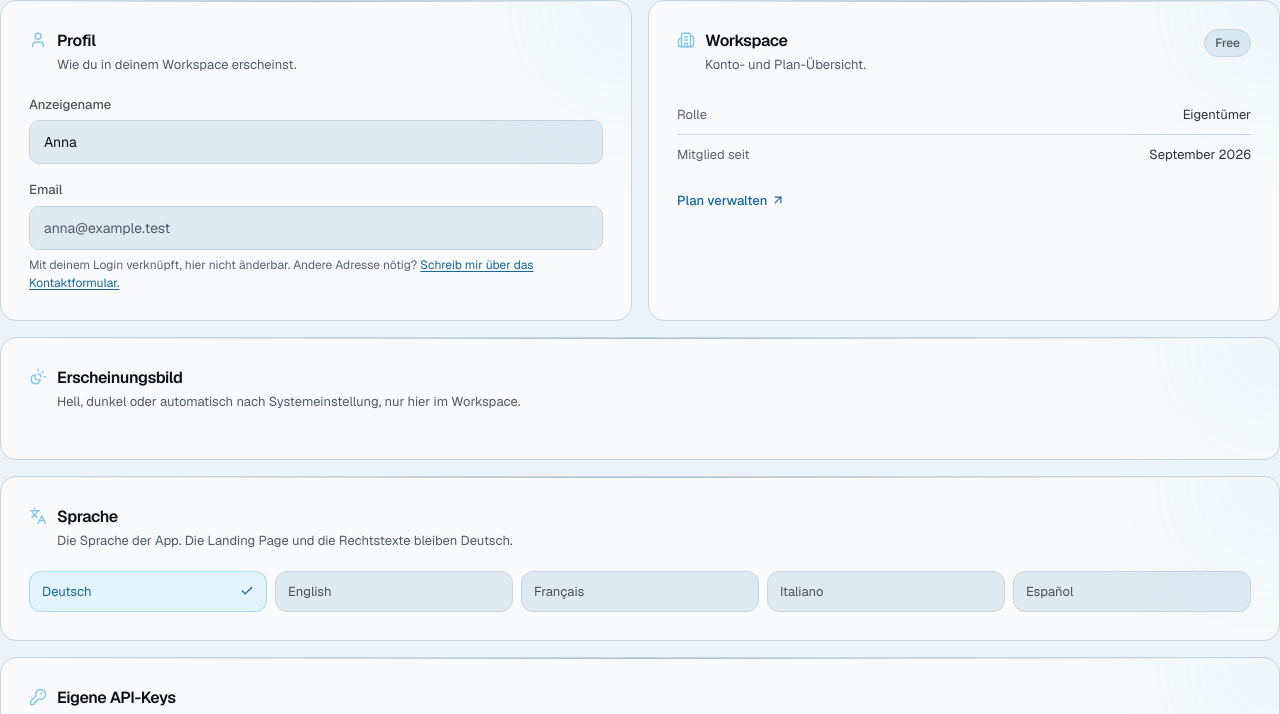
Speicherleiste › 'Verwerfen' stellt den gespeicherten Namen wieder her und blendet die Leiste aus
The width and height of the screenshot is (1280, 714).
Type " Maria" into the field named "Anzeigename".
click(316, 142); type(" Maria")  # box [29,120,603,164]
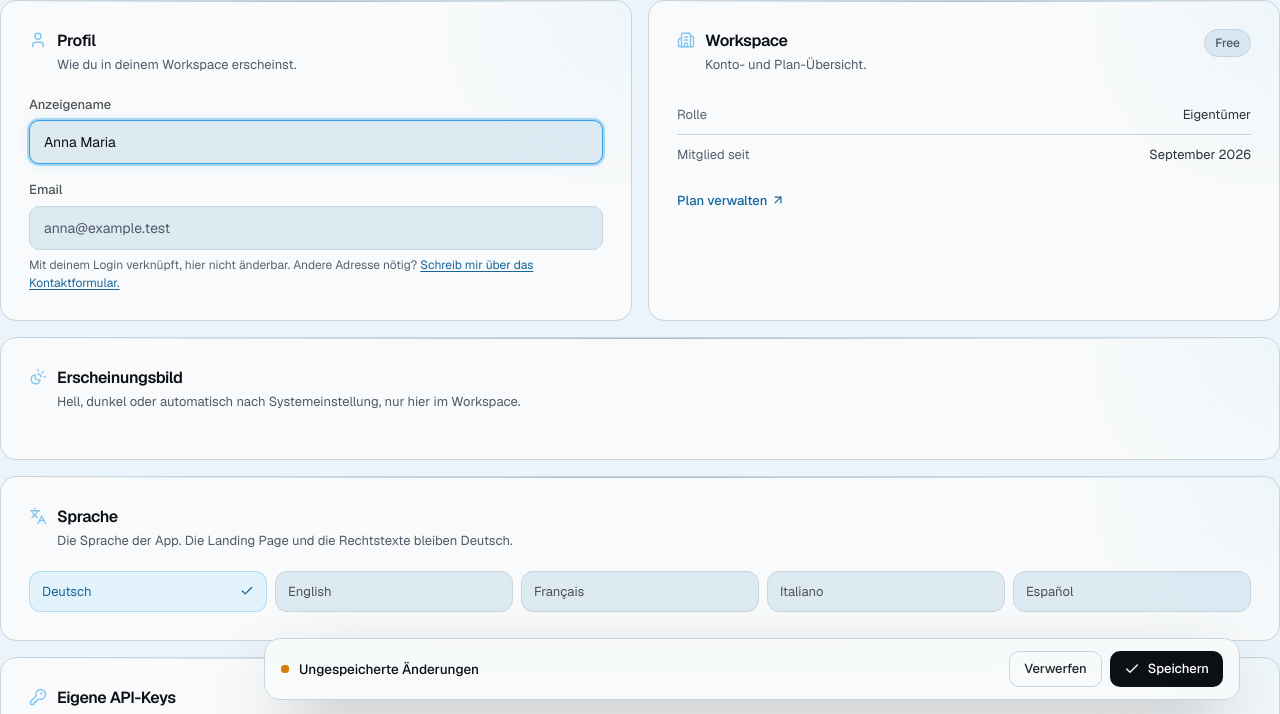
Result: the field named "Anzeigename" holds "Anna Maria" at [29,120,603,164]
Click the button "Verwerfen".
click(1055, 669)  # box [1009,651,1102,687]
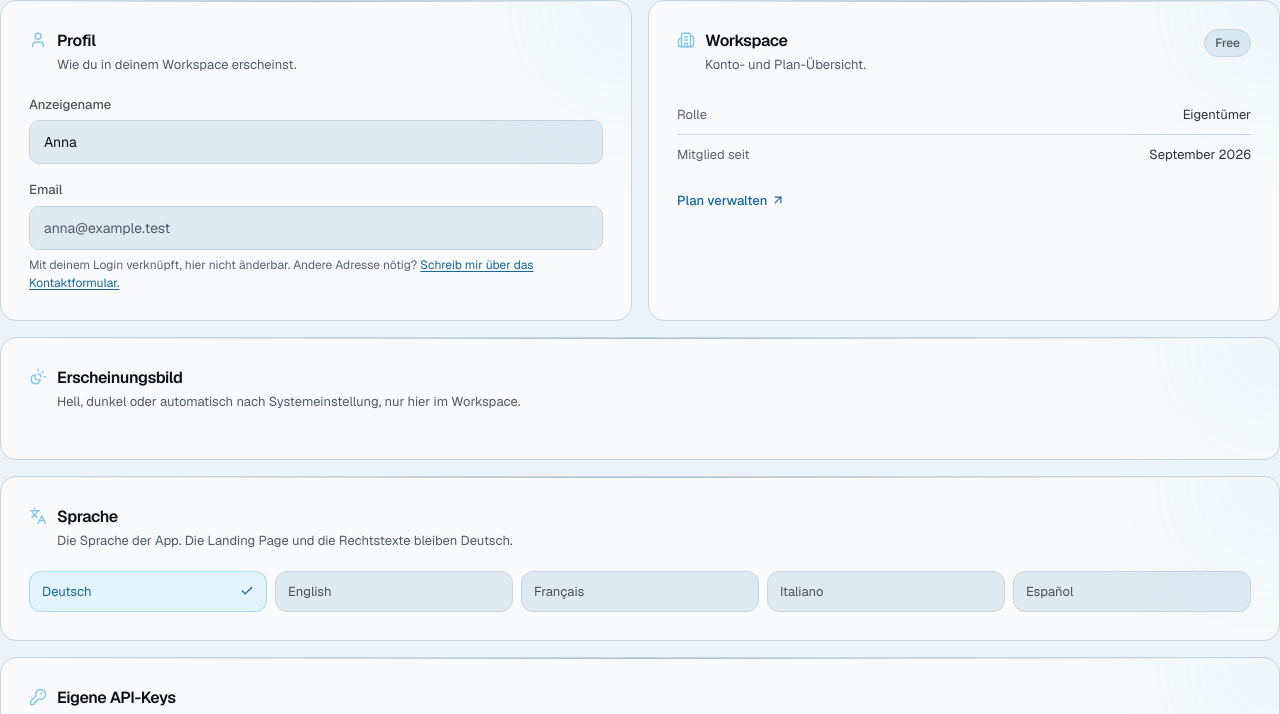
Result: the field named "Anzeigename" holds "Anna" at [29,120,603,164]
Result: the text "Ungespeicherte Änderungen" is gone
